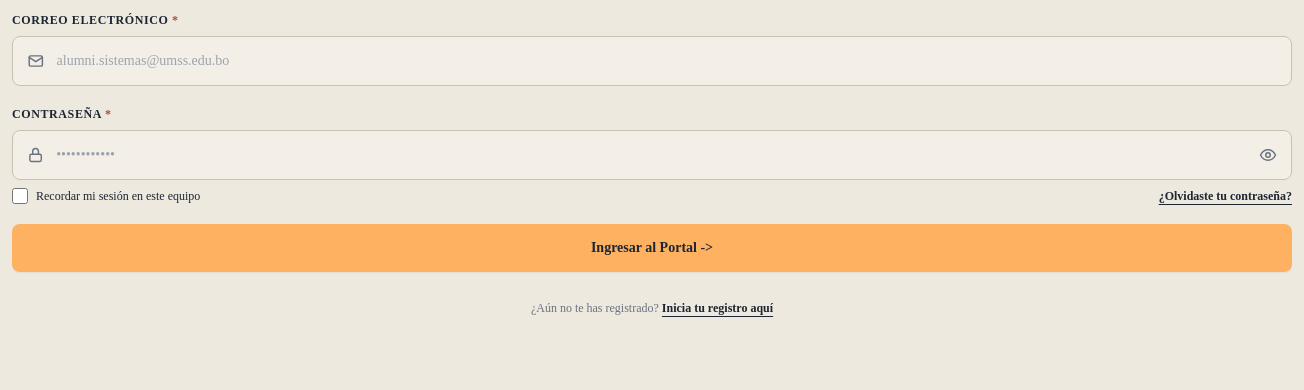
Scenario: LoginForm › muestra un mensaje genérico con credenciales incorrectas (CA-05.4)
Type "nadie@umss.edu.bo" into the field labelled "Correo electrónico *" at (667, 61), box [57,37,1277,85]
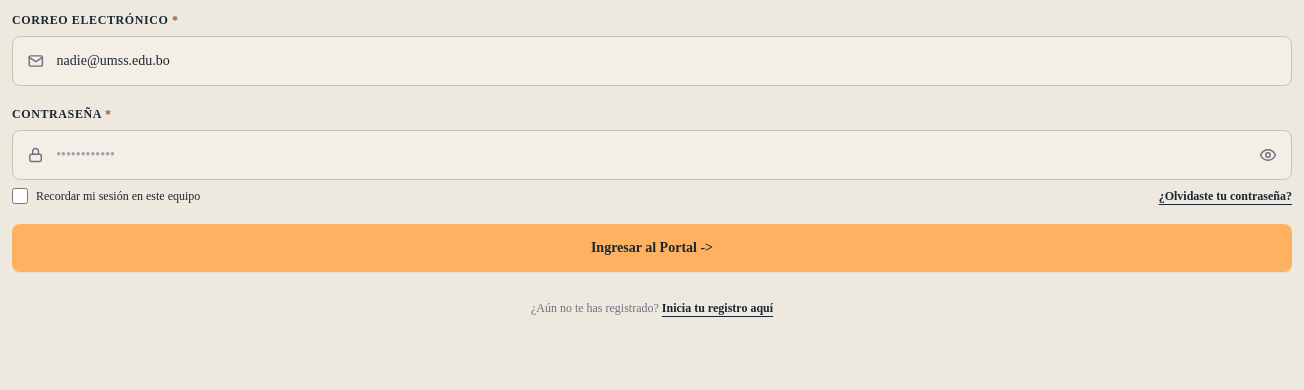
Type "contraseña-equivocada" into the password field labelled "Contraseña *" at (652, 155), box [56,131,1247,179]
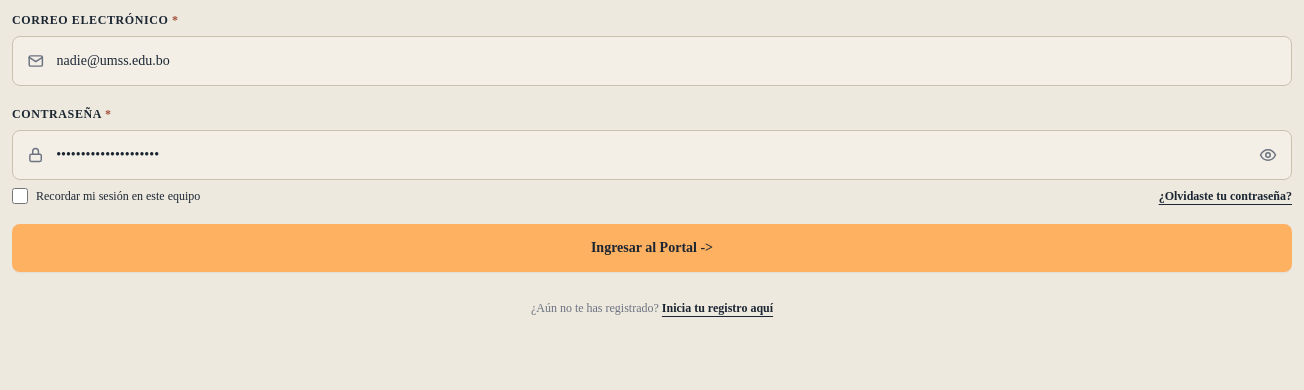
Click the button "Ingresar al Portal ->" at (652, 248), box [12,224,1292,272]
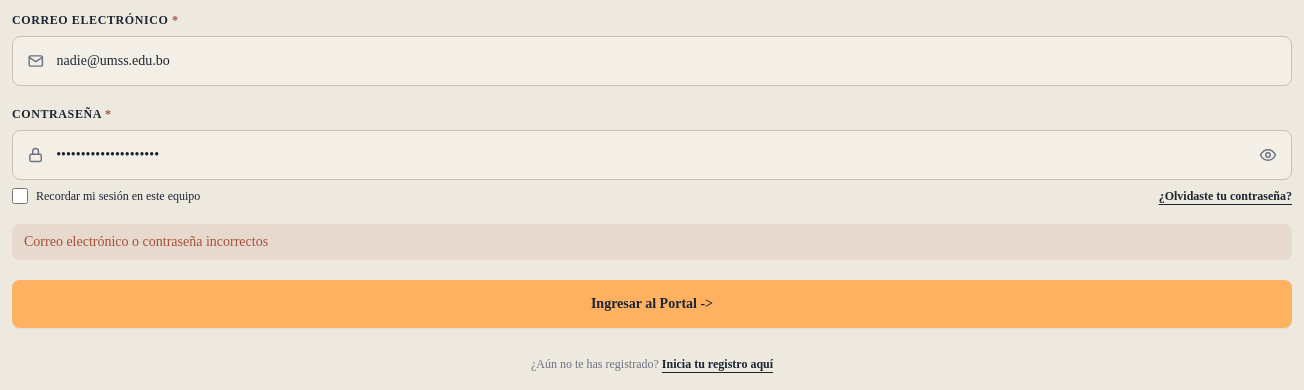
Expected: the text "Correo electrónico o contraseña incorrectos" is shown, [12,224,1292,260]
